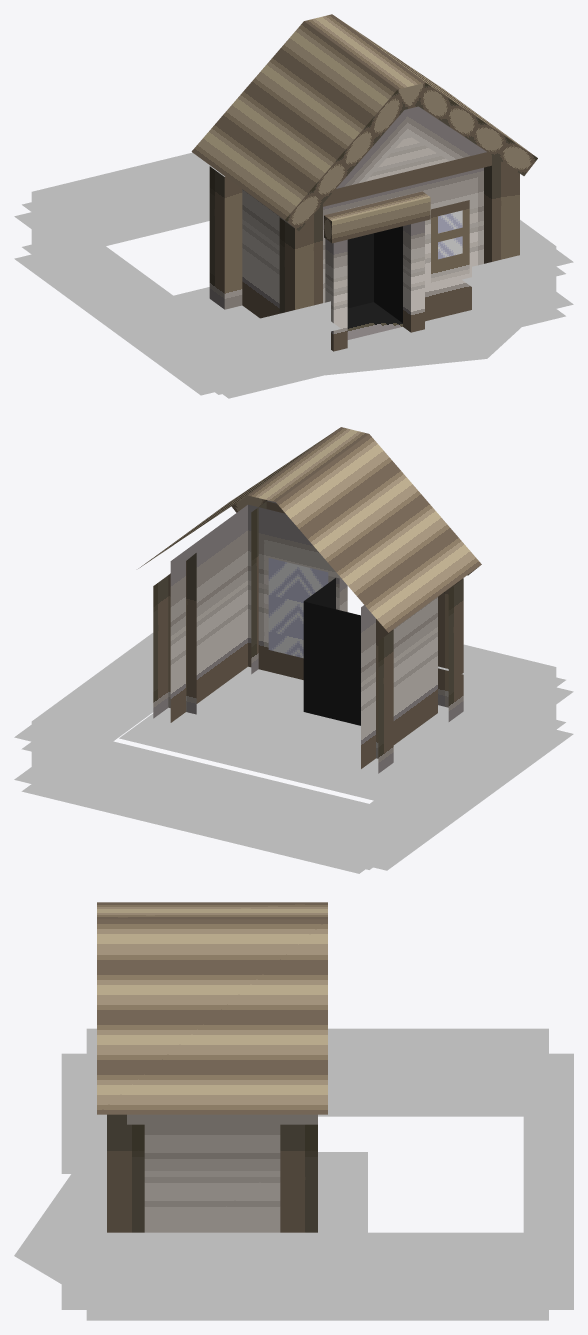
The model's file is wf_house01.dae.
The picture shows the model from 3 angles, top to bottom: view 1: azimuth 30°, elevation 25°; view 2: azimuth 150°, elevation 25°; view 3: azimuth 270°, elevation 25°; orthographic projection. The views are drawn at different scales.
Visible parts, largest first — view 1: wf_house01; view 2: wf_house01; view 3: wf_house01.
Boxes of the visible parts, x1,y1,x2,y2 form: wf_house01: [14, 14, 573, 398]; wf_house01: [14, 427, 573, 873]; wf_house01: [14, 902, 573, 1320].
Size of the model in its own units: 106 by 70.2 by 112.
